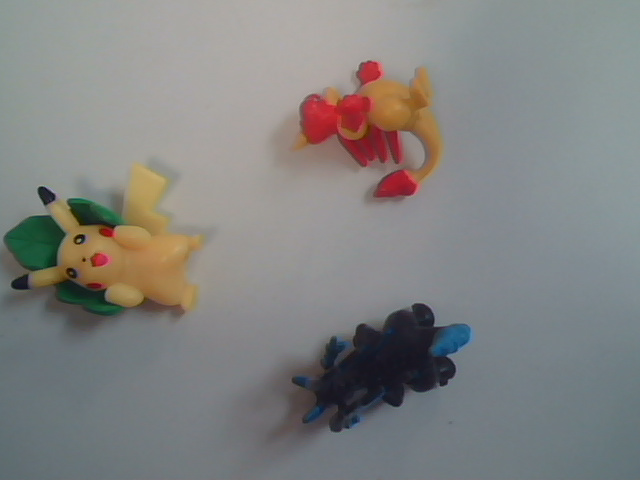charizard: (283, 268, 499, 480)
magmar: (261, 30, 483, 241)
pikachu: (14, 163, 246, 394)
